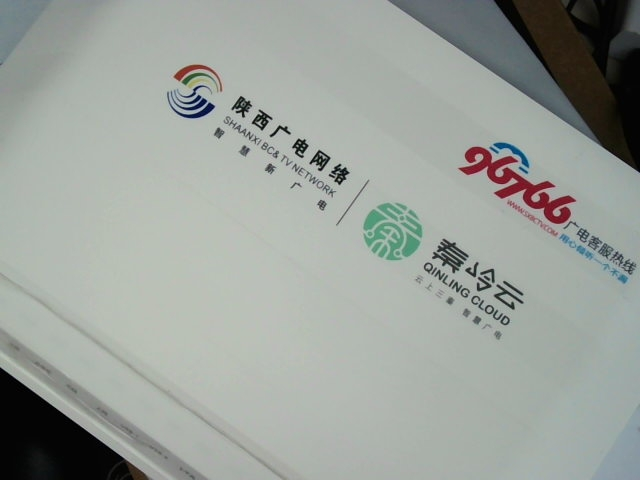AE_QinLing: (359, 192, 539, 351)
